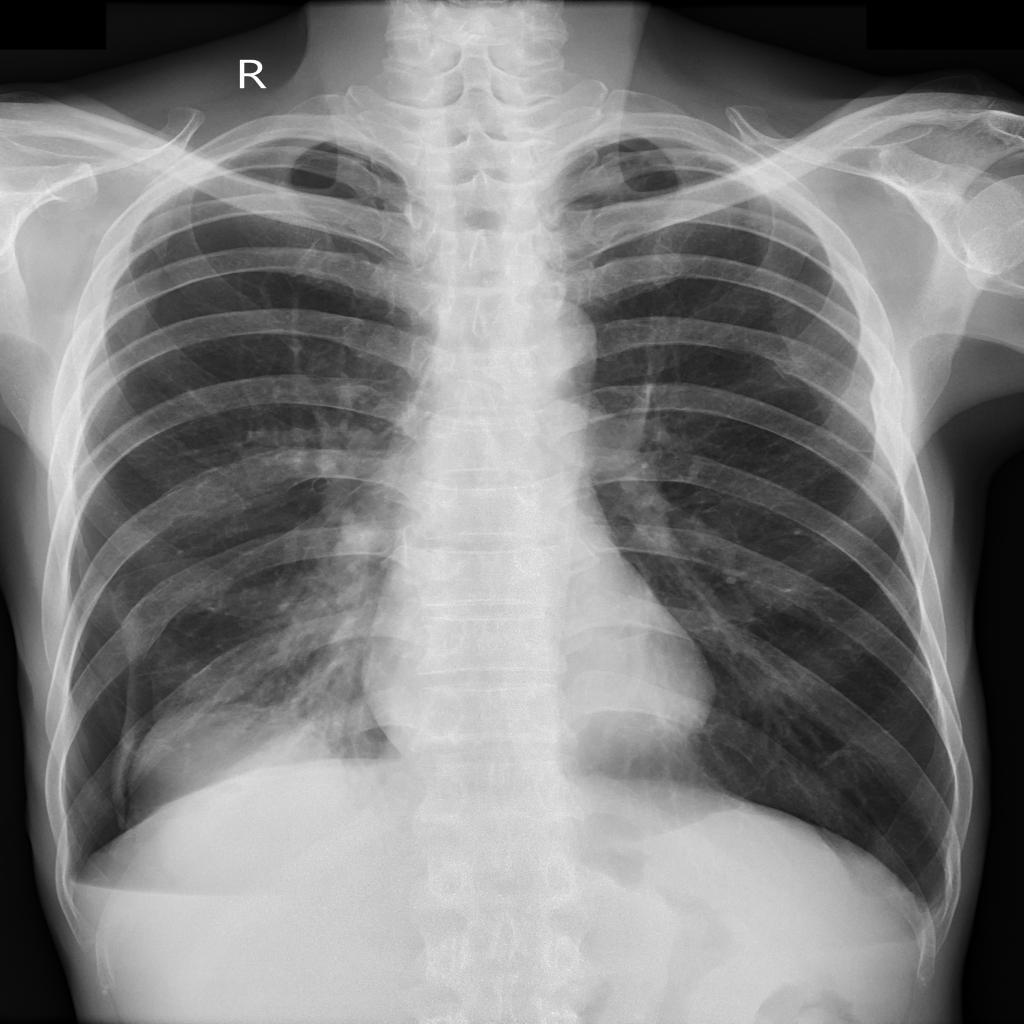Nodule: (125, 707, 331, 823)
